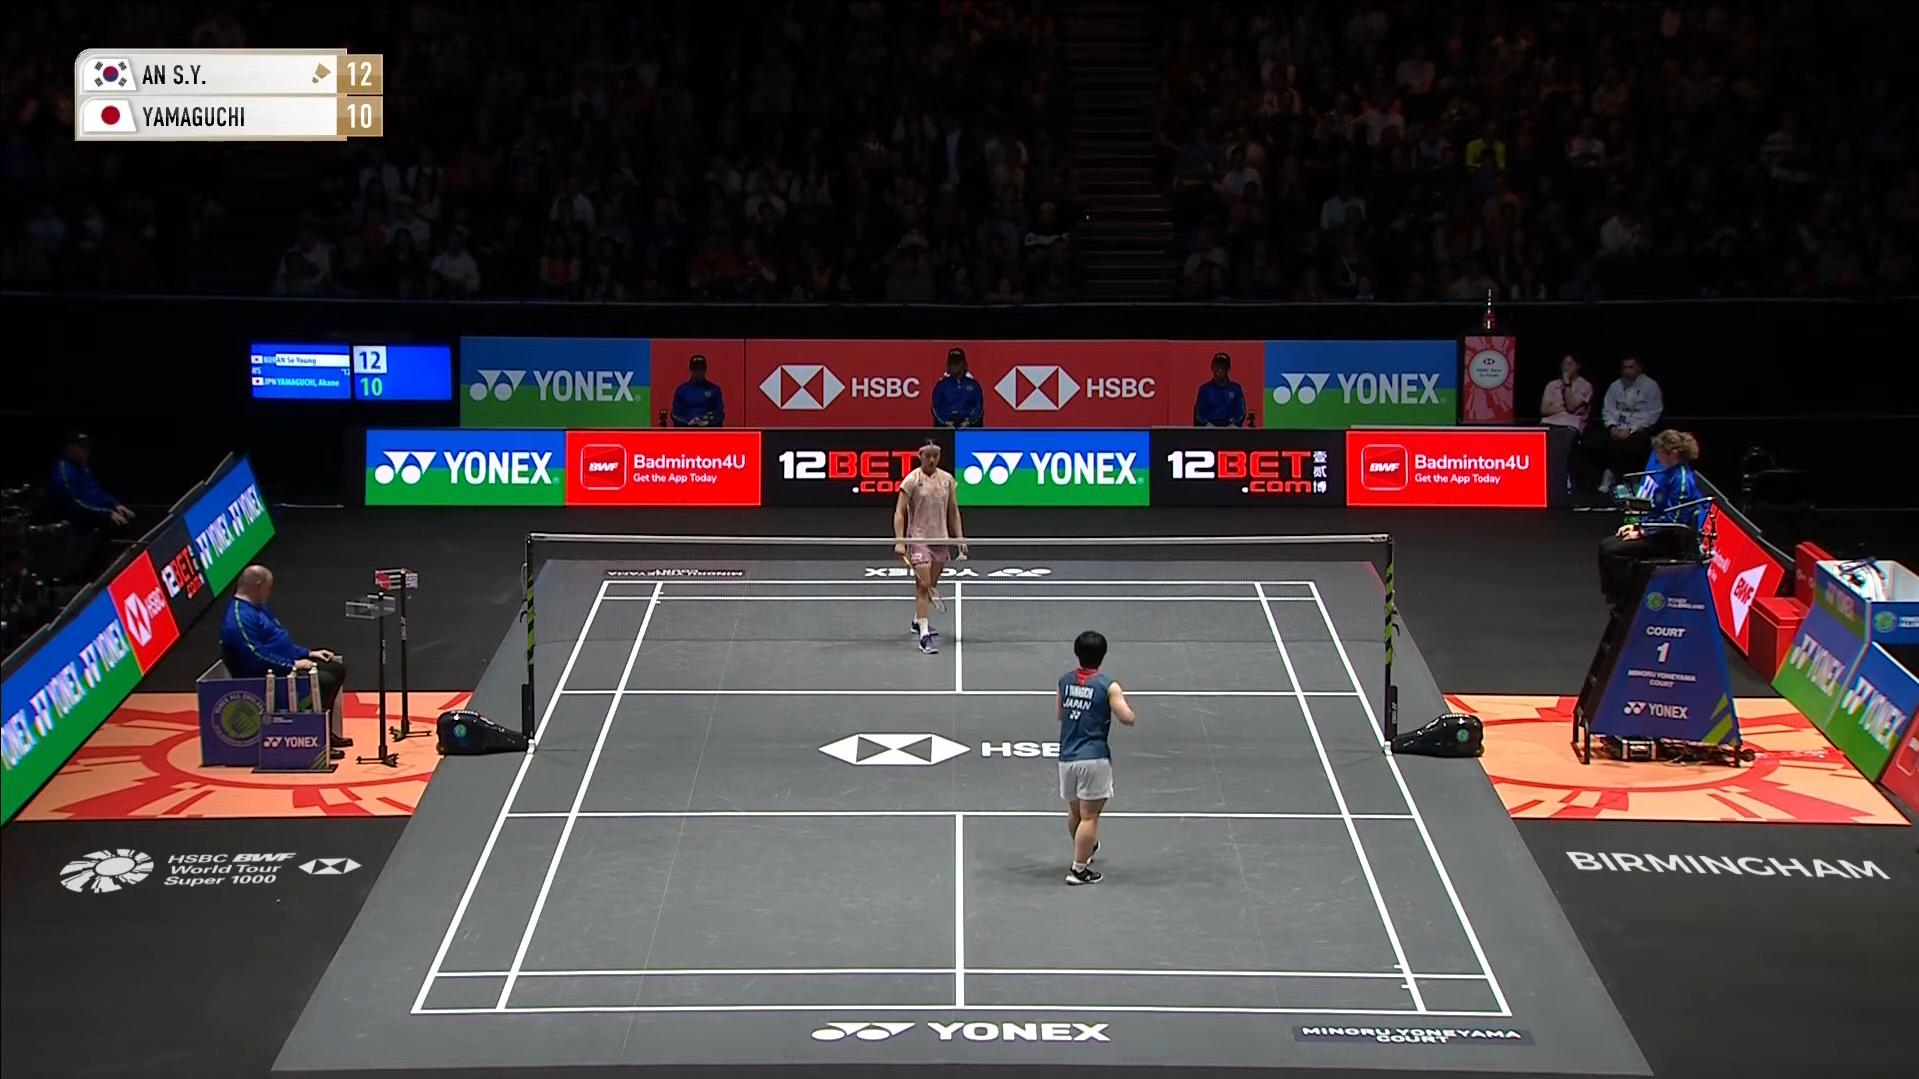shuttle: (952, 547, 970, 567)
